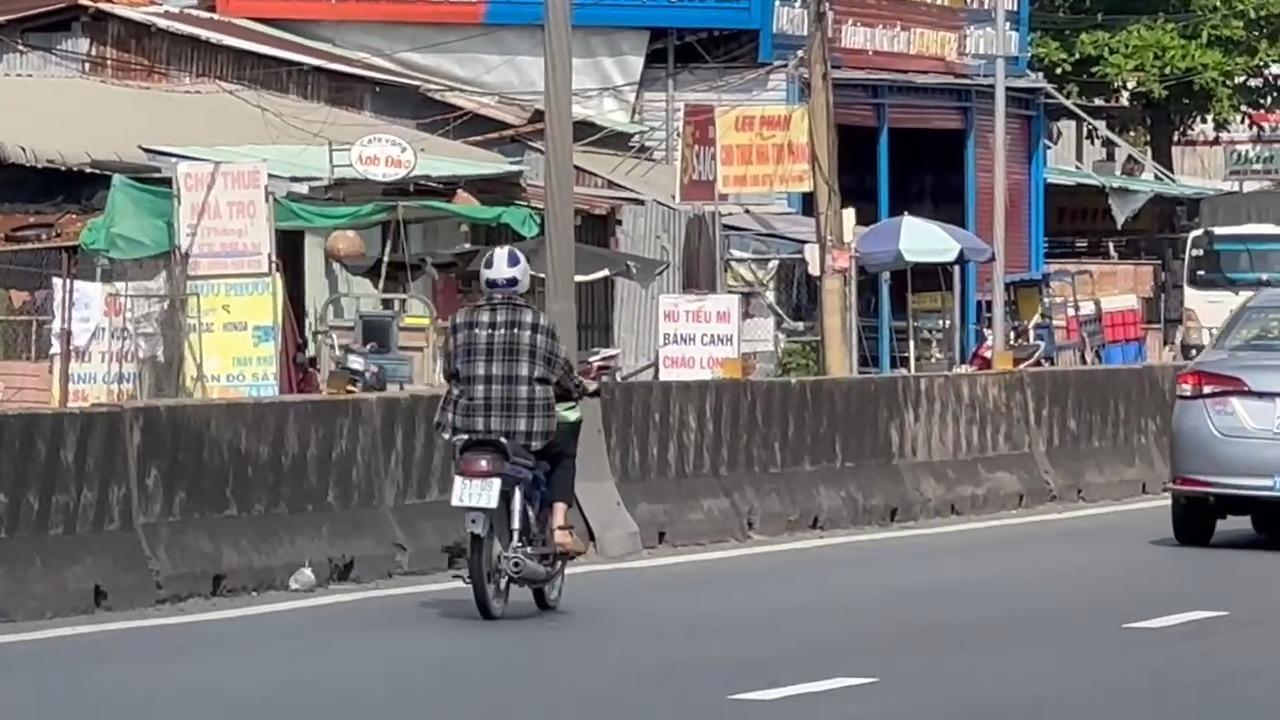bien_so: (449, 473, 502, 508)
